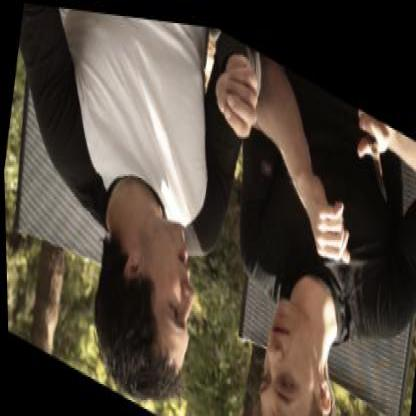knife: (347, 98, 405, 210)
